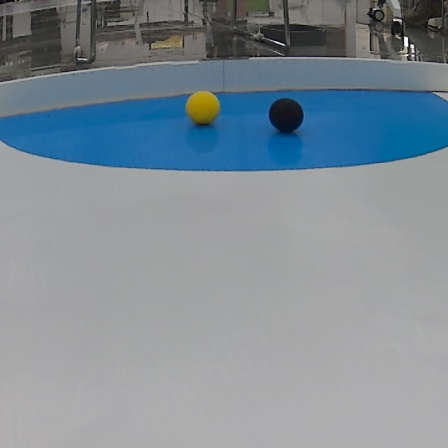black: (269, 99, 303, 136)
blue_base: (0, 85, 448, 172)
yellow: (187, 91, 221, 125)
